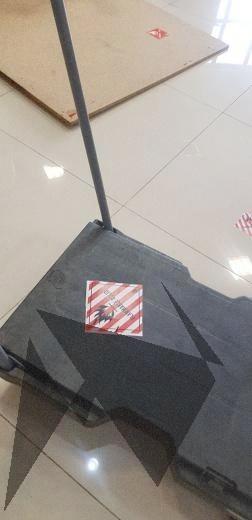flammable: (146, 27, 170, 41)
flammable-solid: (86, 281, 144, 338), (232, 210, 252, 238)
